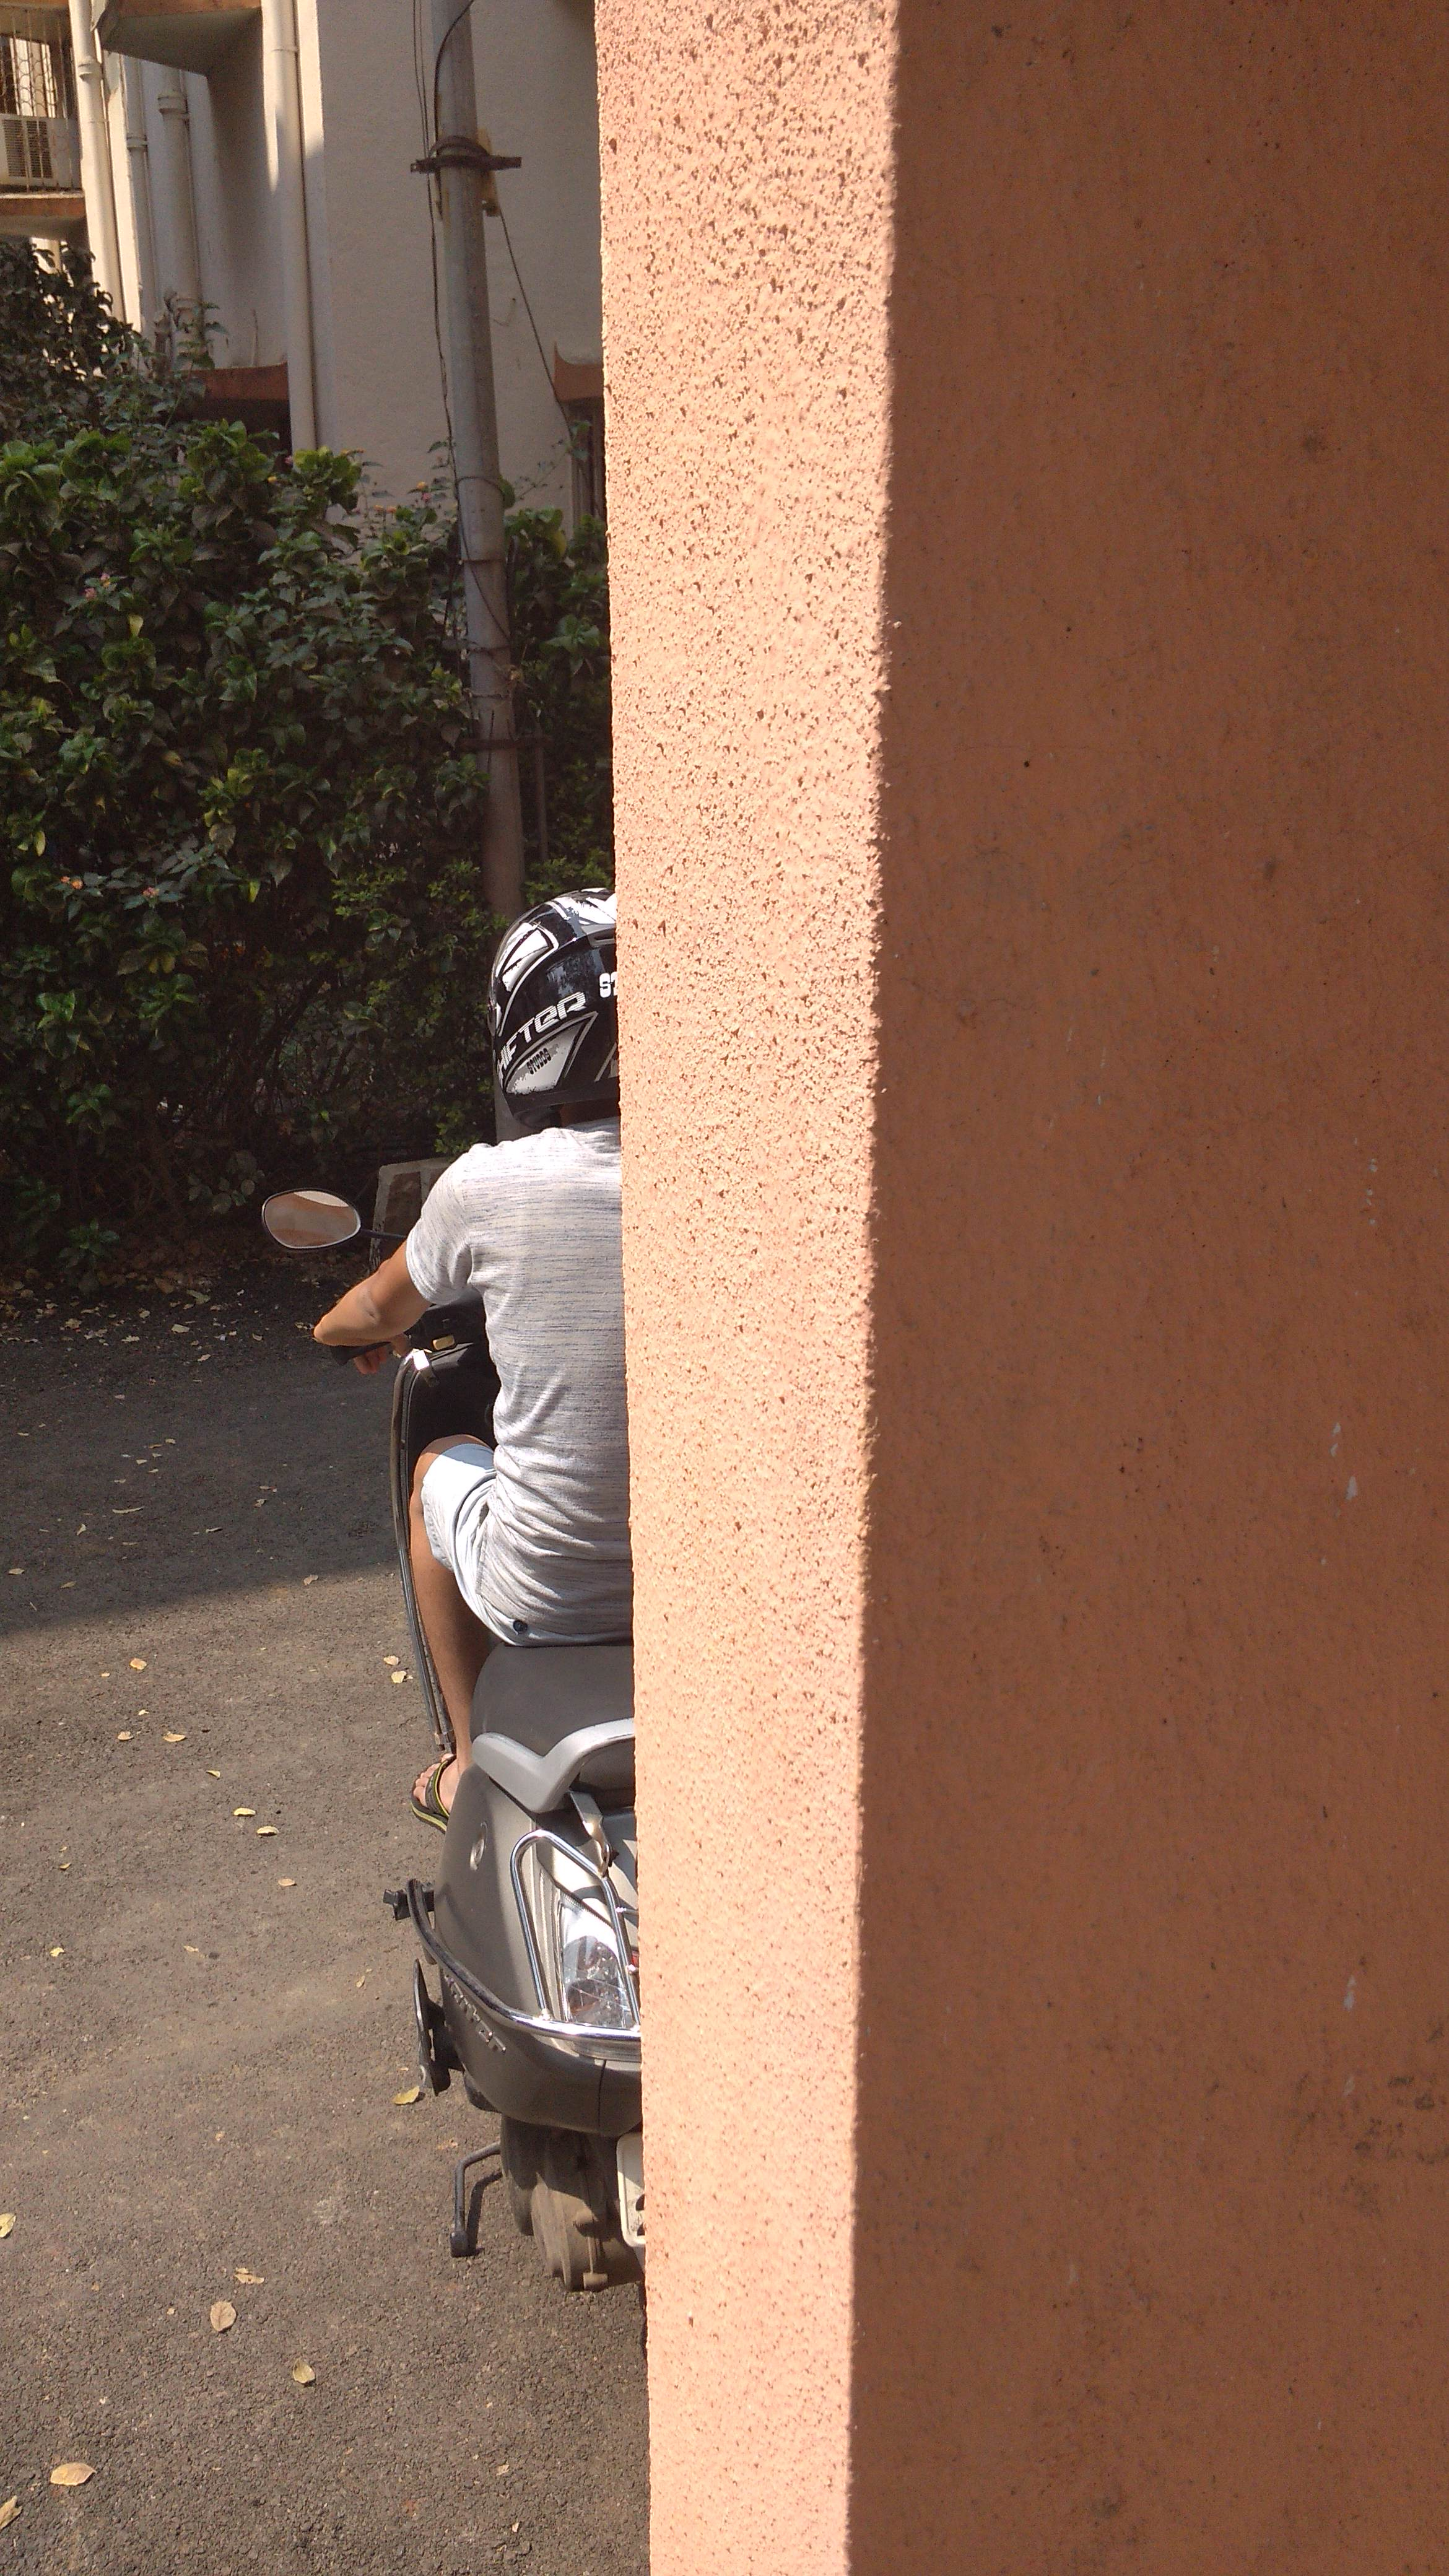helmet: (262, 839, 651, 1941)
